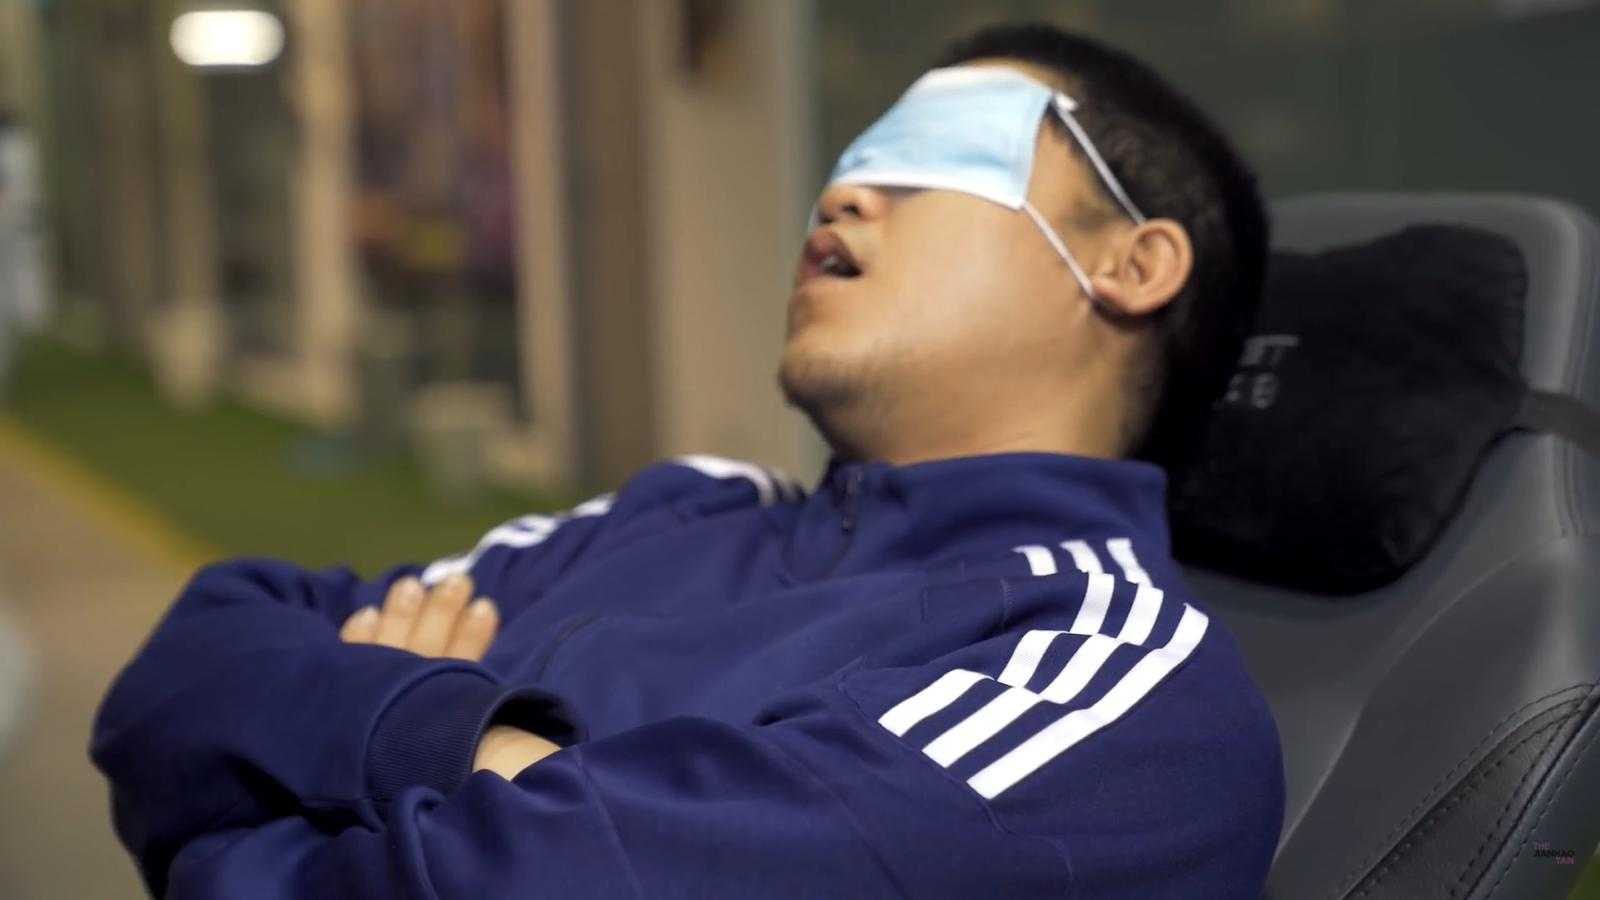with_incorrect_mask: (798, 132, 1147, 392)
